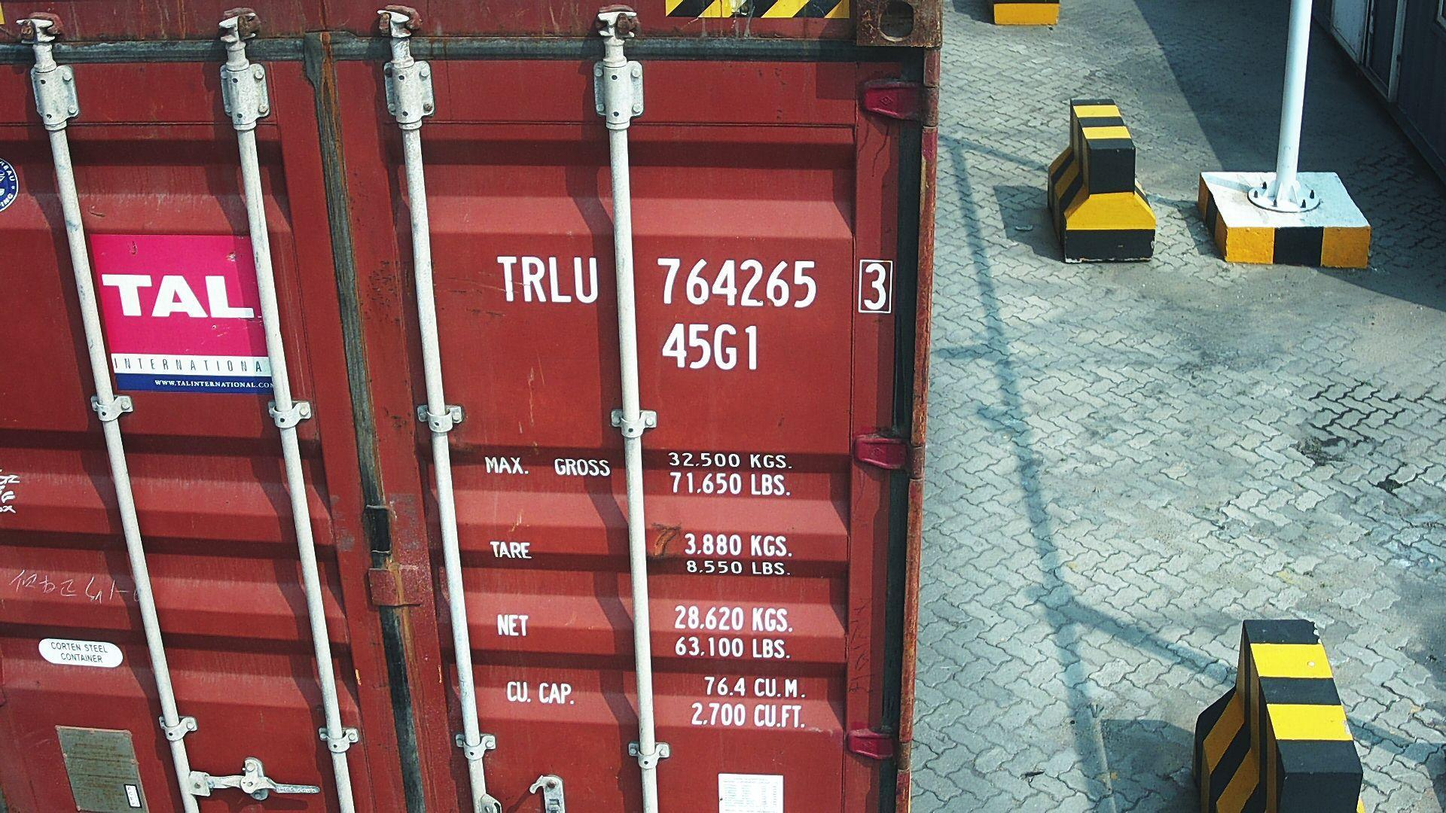container-numbers: (492, 246, 896, 318), (660, 321, 768, 377)
